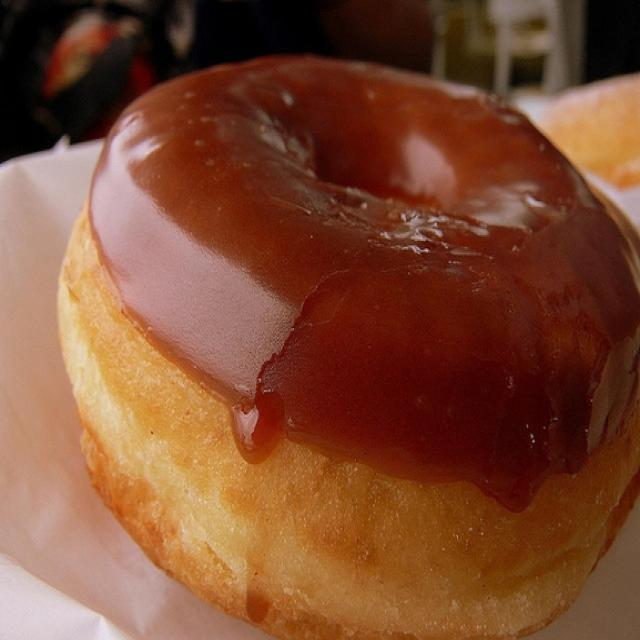炸货点心: (48, 27, 628, 612)
